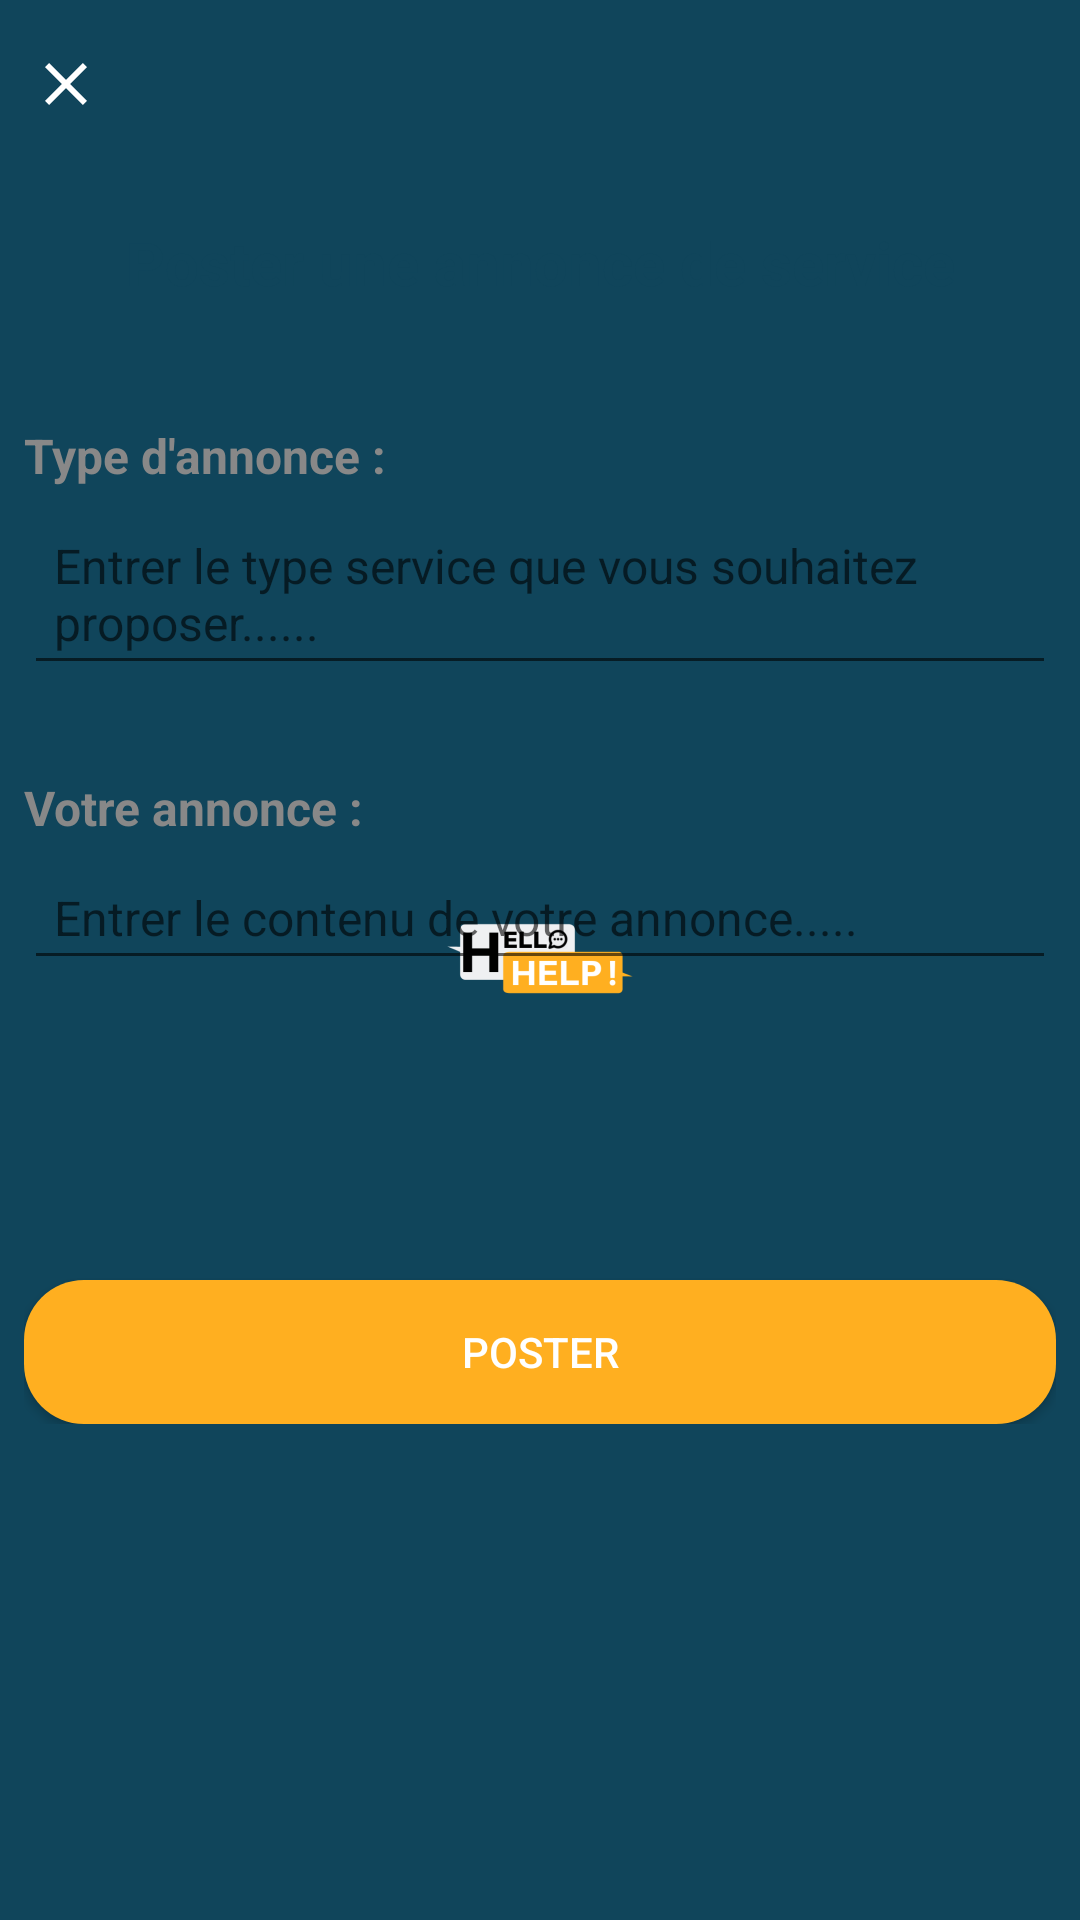

Icons on this 1080x1920 Android screen, each with the point to tap as (x=x, y=y):
close: (x=66, y=84)
